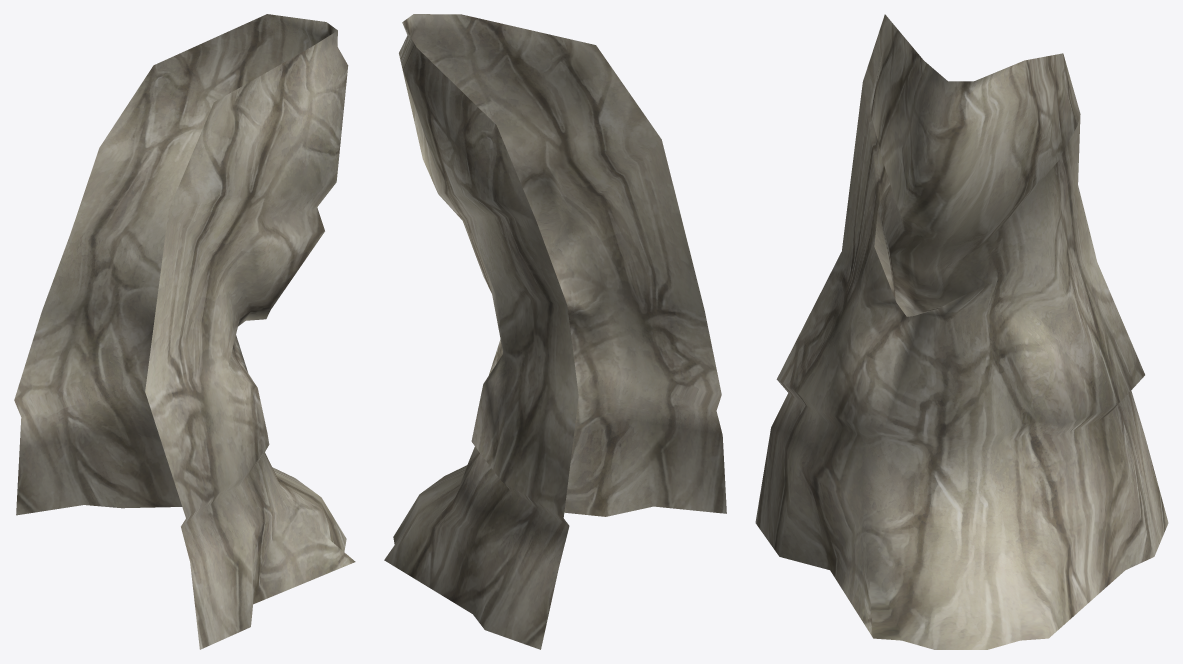
File: cave_arch.FBX
3 renders of one model, left to right at view 1: azimuth 30°, elevation 25°; view 2: azimuth 150°, elevation 25°; view 3: azimuth 270°, elevation 25°, orthographic. The views are drawn at different scales.
Visible parts, largest first — view 1: cave_arch; view 2: cave_arch; view 3: cave_arch.
Boxes of the visible parts, bbox=[...] form: cave_arch: bbox=[14, 14, 355, 649]; cave_arch: bbox=[384, 14, 726, 649]; cave_arch: bbox=[755, 14, 1168, 649].
Size of the model in its own units: 8.93 by 17.35 by 11.44.
